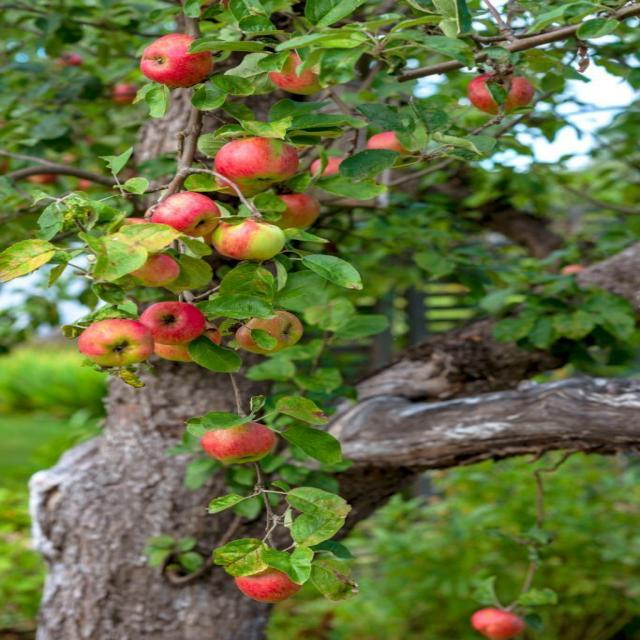Red Apple: (220, 137, 299, 190), (149, 41, 220, 89), (246, 312, 311, 355), (158, 321, 219, 363), (86, 320, 149, 359), (207, 425, 268, 463), (149, 302, 203, 344), (166, 194, 220, 232), (279, 56, 335, 92), (473, 77, 531, 111), (221, 219, 275, 254), (243, 570, 295, 605), (137, 252, 182, 290), (276, 190, 318, 221), (480, 613, 527, 636), (374, 129, 409, 152), (316, 158, 346, 180), (114, 83, 138, 104), (64, 52, 84, 66), (35, 174, 56, 186)
